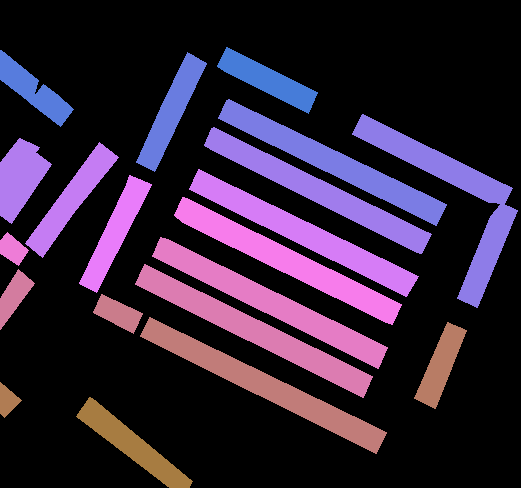parkingspot: (140, 317, 386, 453), (135, 264, 372, 397), (152, 237, 387, 368), (189, 169, 418, 296), (174, 197, 401, 324), (218, 99, 446, 225), (204, 127, 431, 253), (352, 114, 512, 203), (25, 142, 118, 257), (76, 397, 192, 488), (79, 175, 151, 292), (136, 52, 206, 171), (217, 47, 317, 113), (457, 203, 517, 307), (414, 322, 466, 408), (0, 151, 51, 223), (0, 138, 39, 201), (0, 269, 34, 329), (0, 50, 38, 103), (93, 294, 142, 333), (29, 84, 73, 126), (0, 232, 28, 265), (0, 382, 21, 417)
